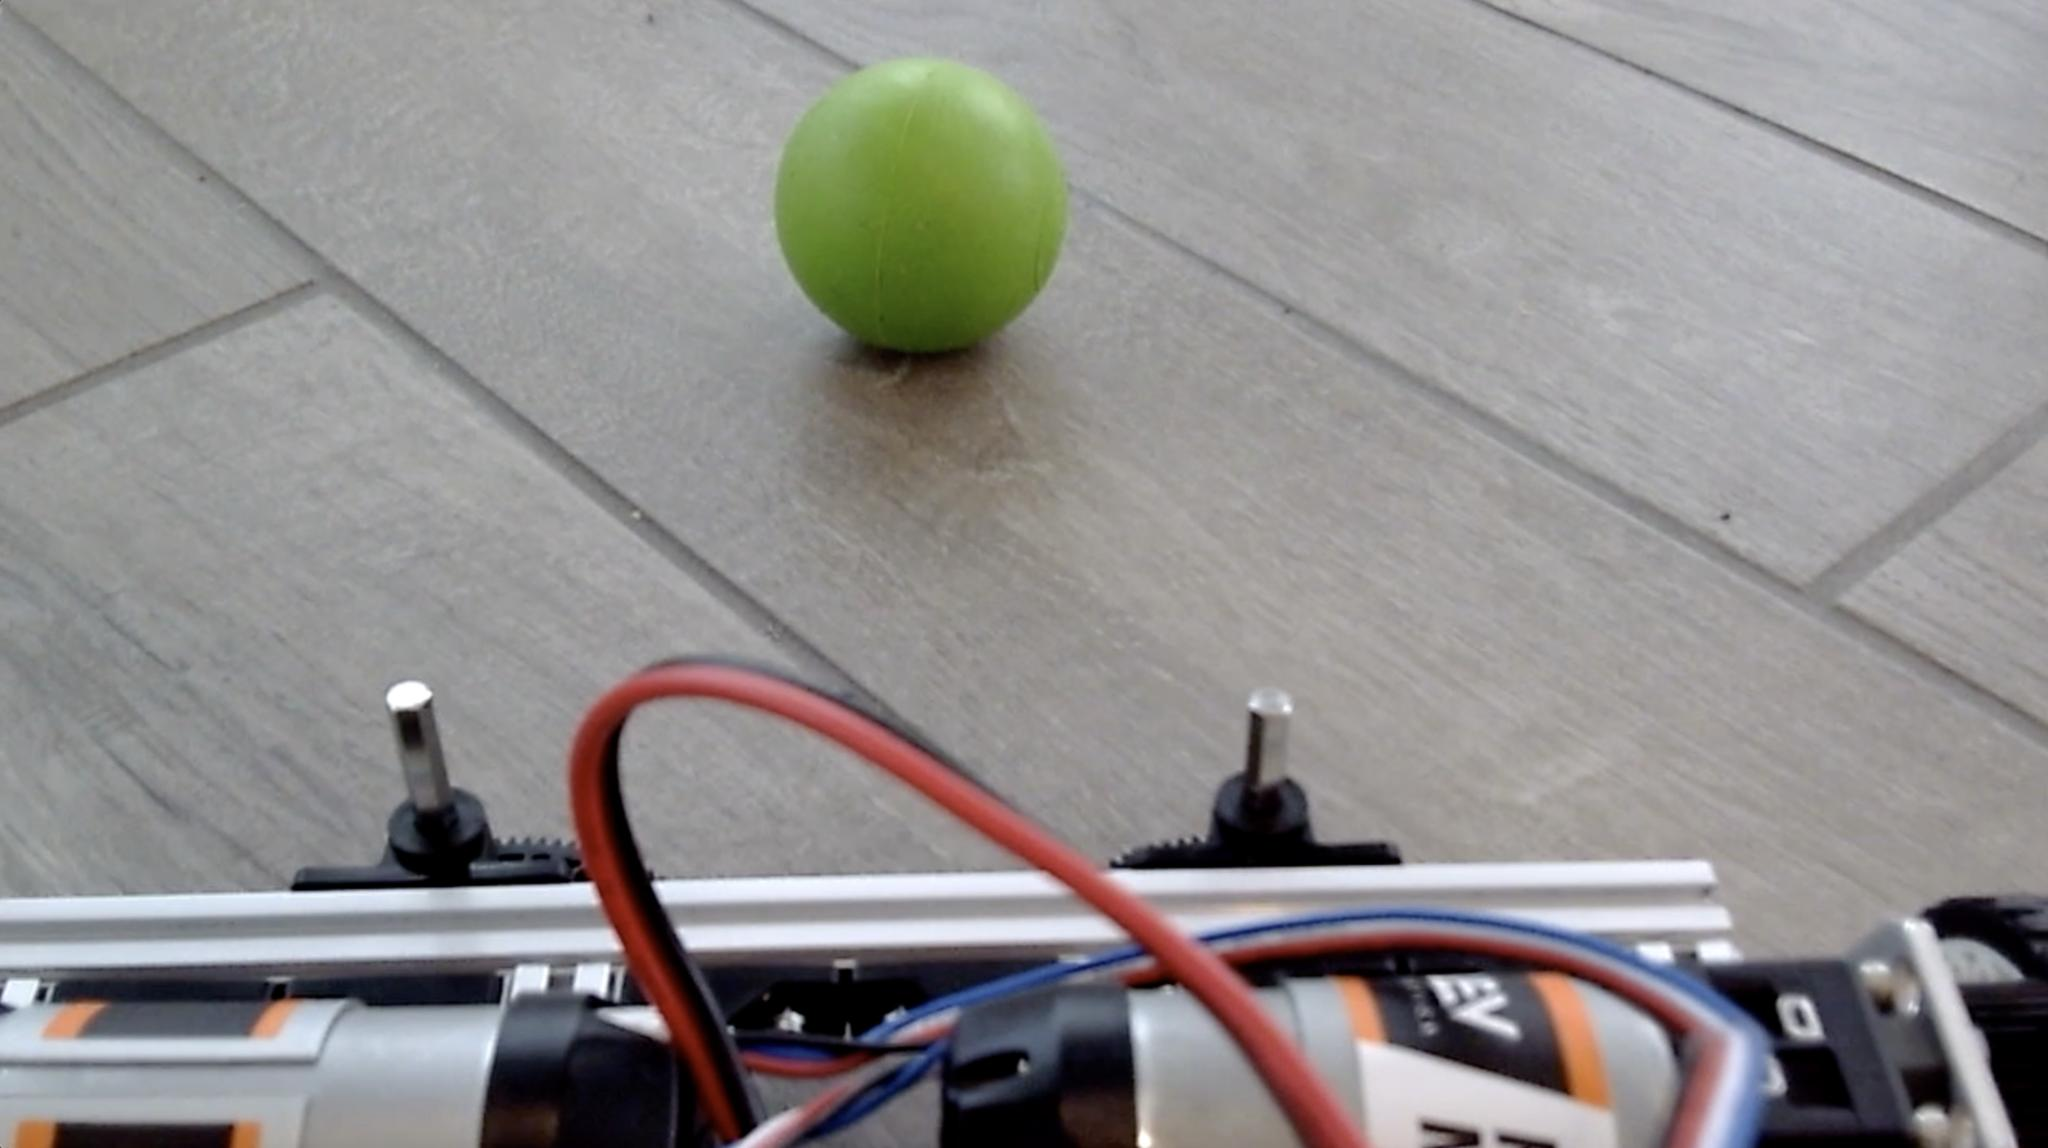greenball: (769, 53, 1070, 357)
